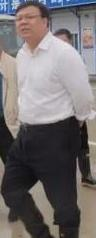boots: (0, 168, 9, 177), (0, 150, 4, 165)
